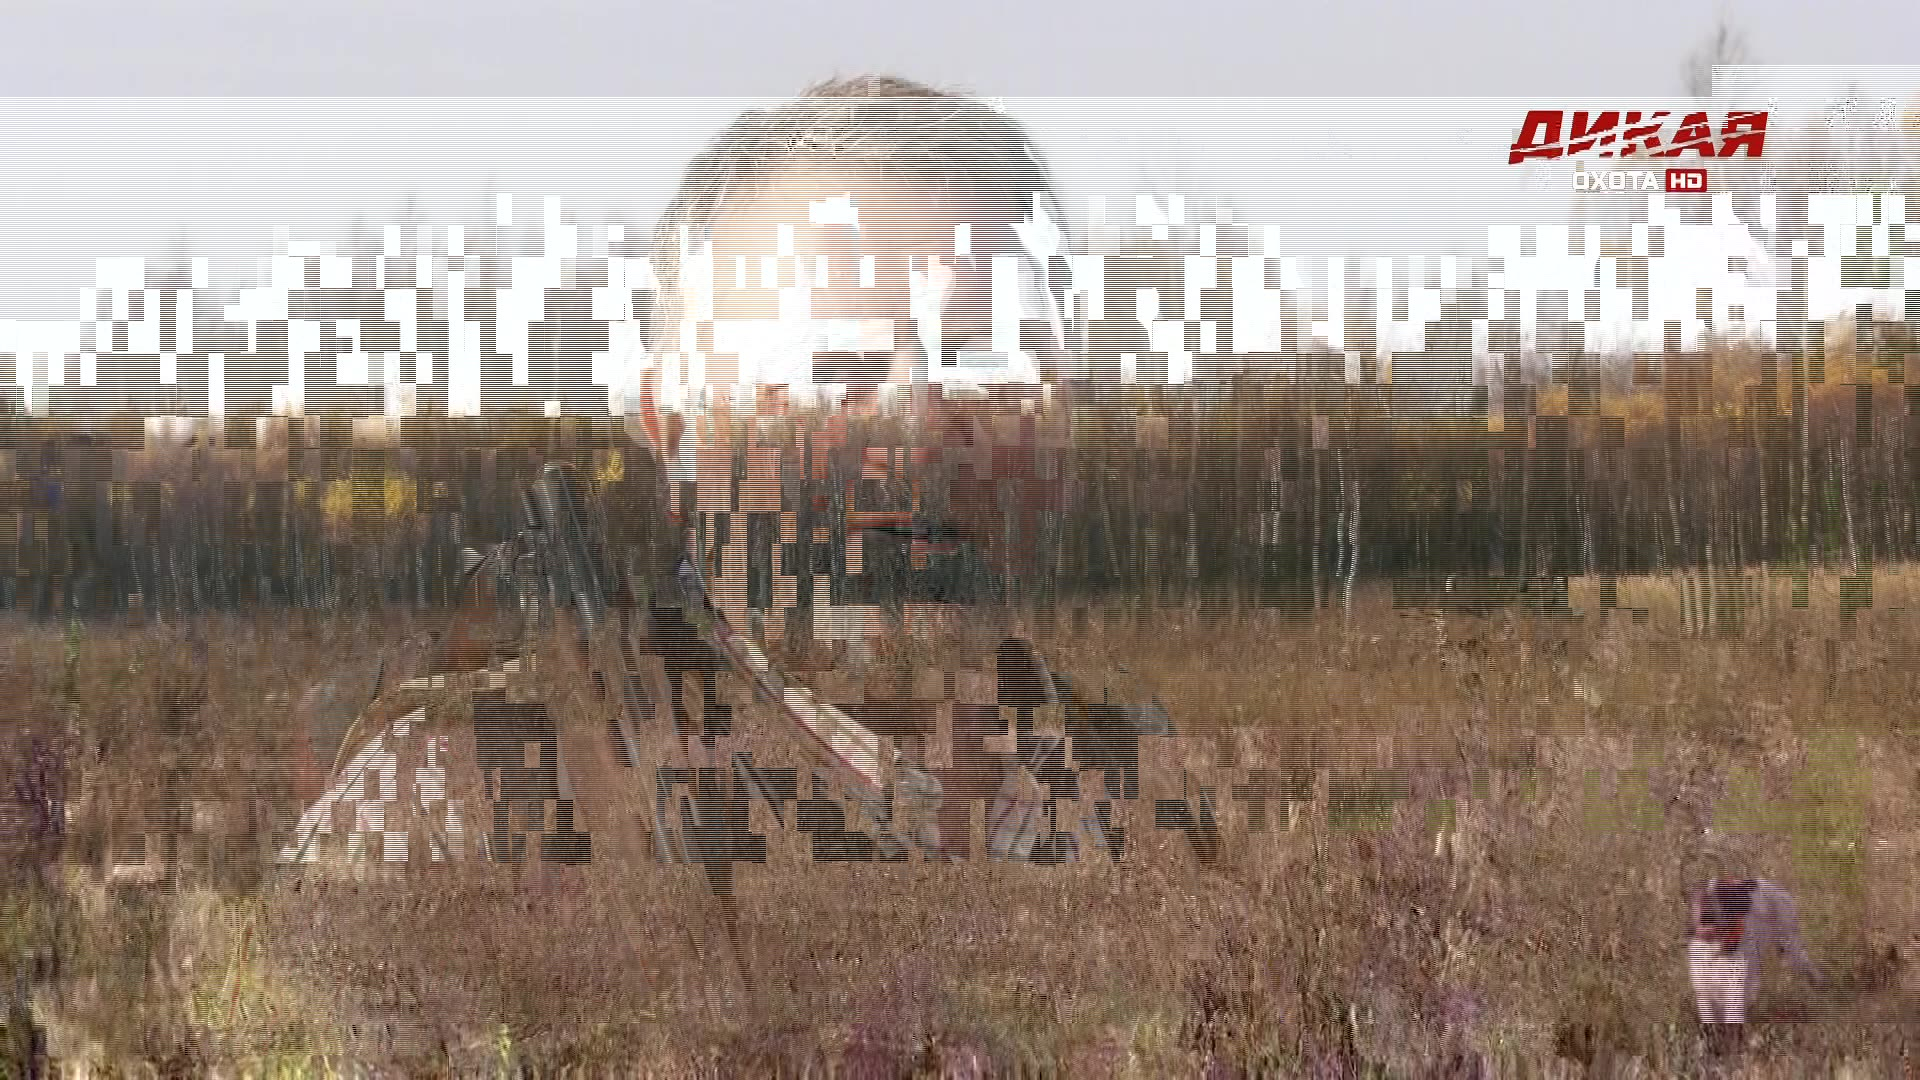Dikaya_Ohota_HD: (1506, 104, 1775, 195)
